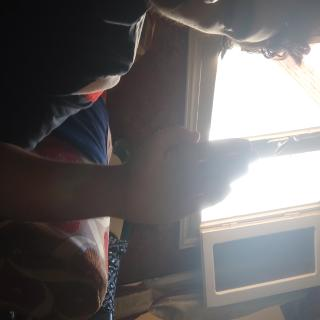SEEN: (91, 85, 172, 275)
